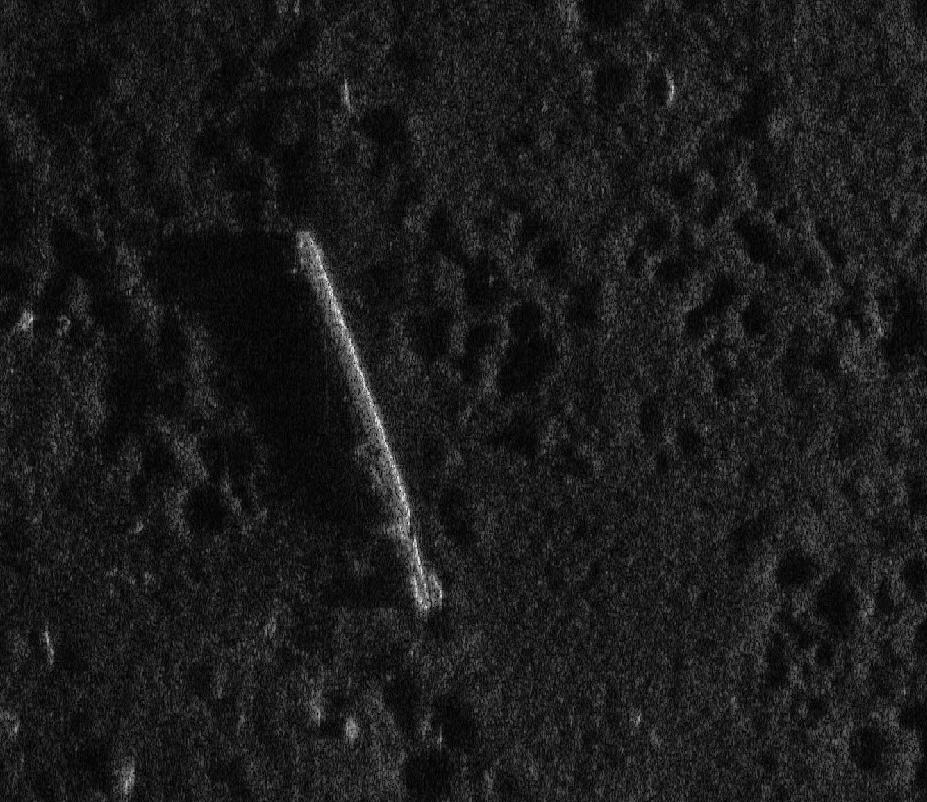ship: (285, 227, 446, 616)
